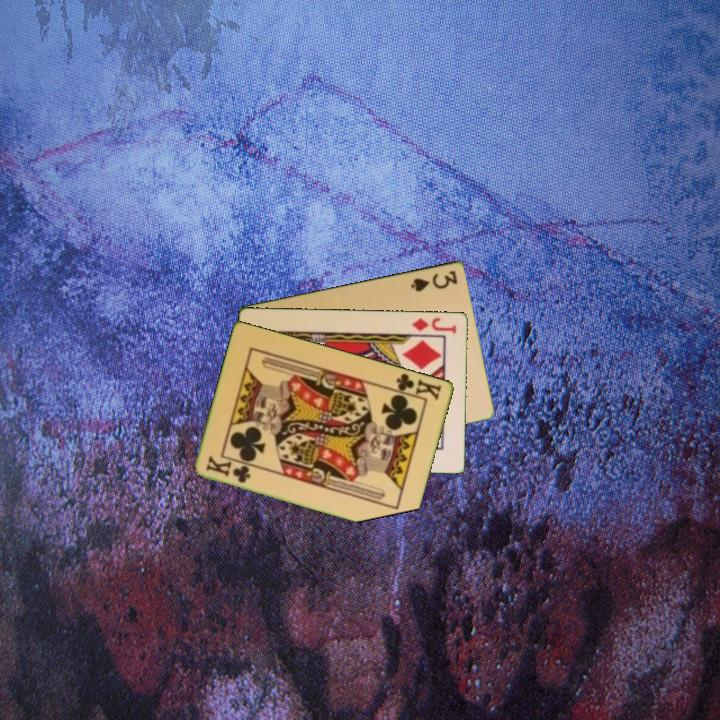3s: (407, 267, 460, 294)
Jd: (409, 314, 459, 336)
Kc: (389, 369, 445, 403), (203, 453, 254, 486)
